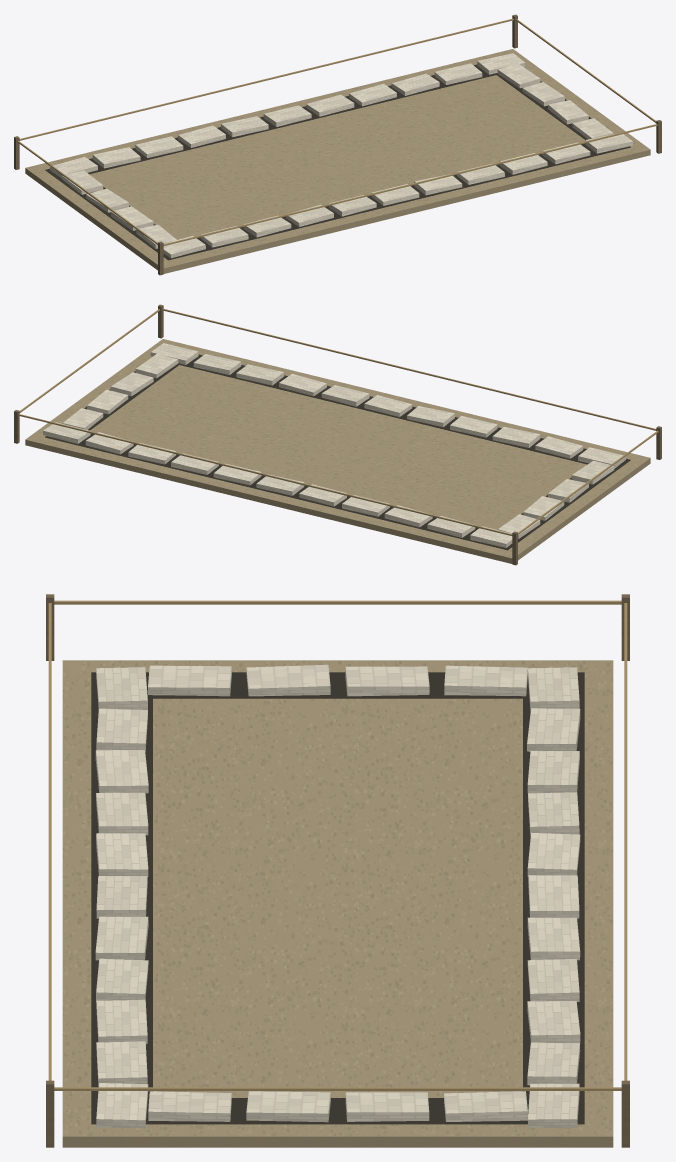
Rendered from pol-4-site.glb.
3 renders of one model, top to bottom at view 1: azimuth 30°, elevation 25°; view 2: azimuth 150°, elevation 25°; view 3: azimuth 270°, elevation 25°, orthographic. The views are drawn at different scales.
Bounding box in the file's own units: 28.2 × 2.02 × 14.2.
Materials: 5 (3 with a texture image).
